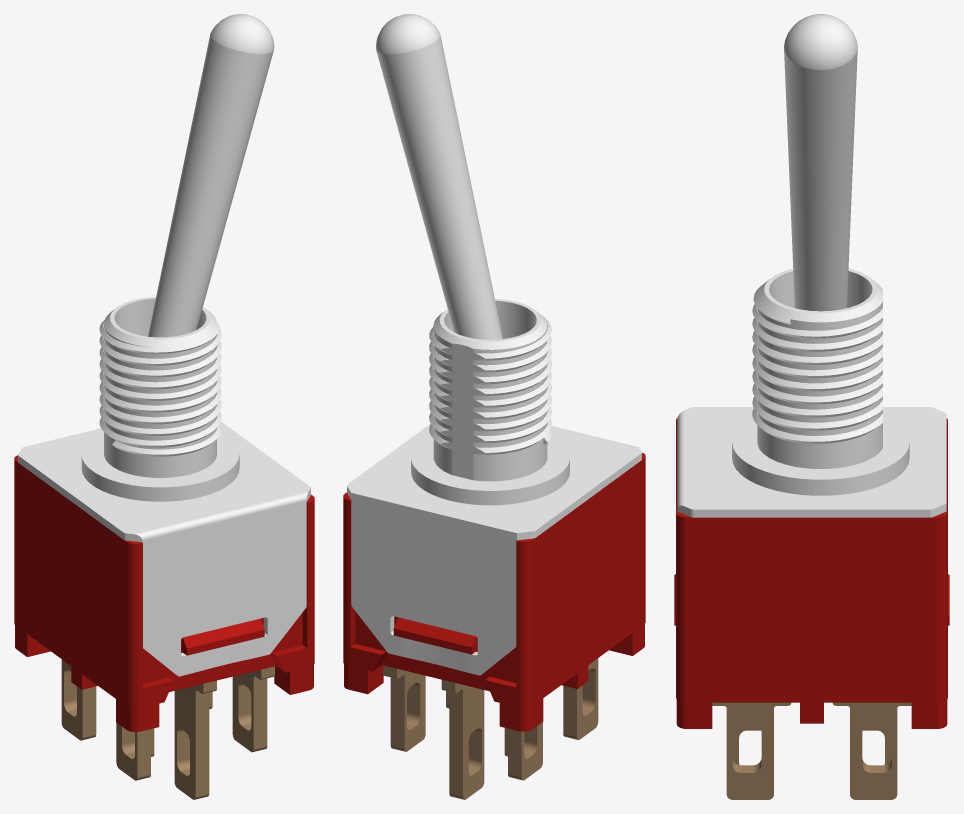
File: switch_toggle_sub-mini_DPDT_onoff_long_lever.glb
3 views of the same model, side by side, from view 1: azimuth 30°, elevation 25°; view 2: azimuth 150°, elevation 25°; view 3: azimuth 270°, elevation 25° (orthographic). The views are drawn at different scales.
Visible parts, largest first — view 1: Solid2, Solid1, Solid5, Solid3; view 2: Solid2, Solid1, Solid5, Solid3; view 3: Solid1, Solid2, Solid5, Solid3.
Boxes of the visible parts, x1,y1,x2,y2 form: Solid2: (18,296,310,676); Solid1: (14,455,314,732); Solid5: (148,14,274,337); Solid3: (61,659,274,799); Solid2: (347,299,641,675); Solid1: (343,452,645,731); Solid5: (376,14,502,339); Solid3: (383,658,598,799); Solid1: (674,418,949,728); Solid2: (677,268,946,517); Solid5: (784,14,857,311); Solid3: (712,702,911,799).
Bounding box in the file's own units: 0.00889 × 0.0307 × 0.0093.
